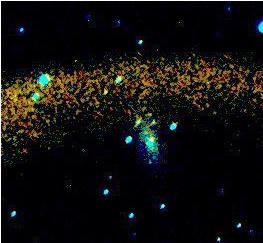star: (137, 147, 167, 177)
